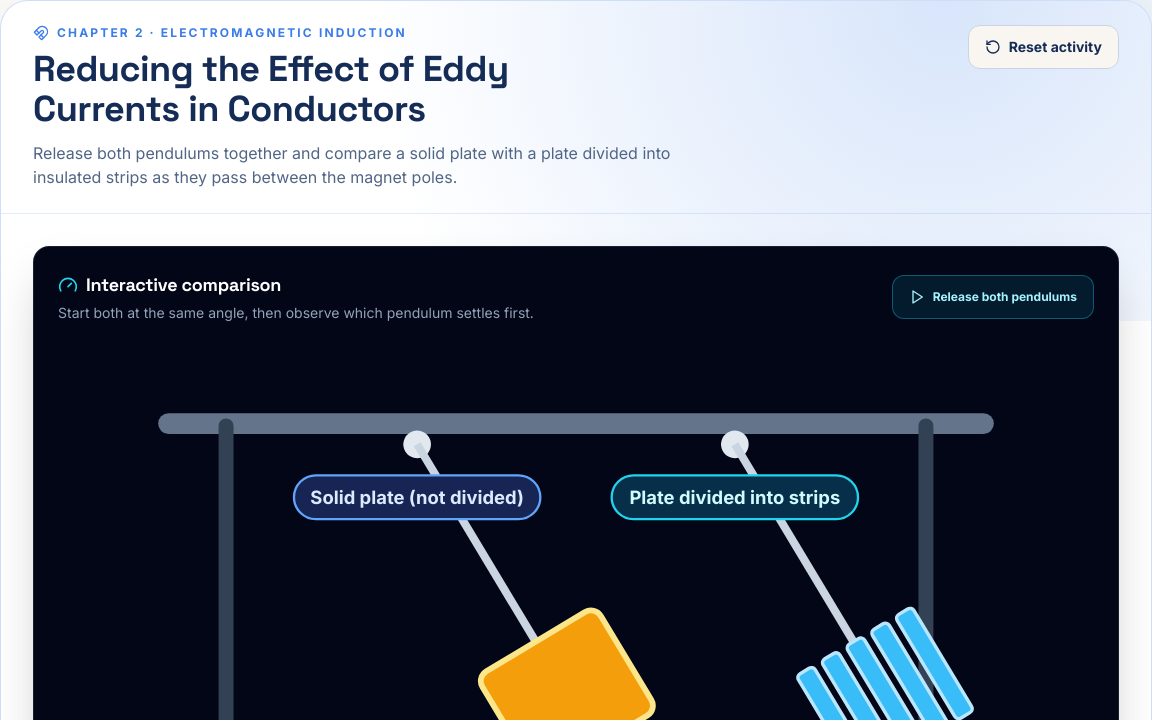
EddyCurrentPendulumActivity › releases both pendulums with different damping
Step 1. Click the button "Release both pendulums" → (993, 297), box [892,275,1094,319]
(page scrolled)
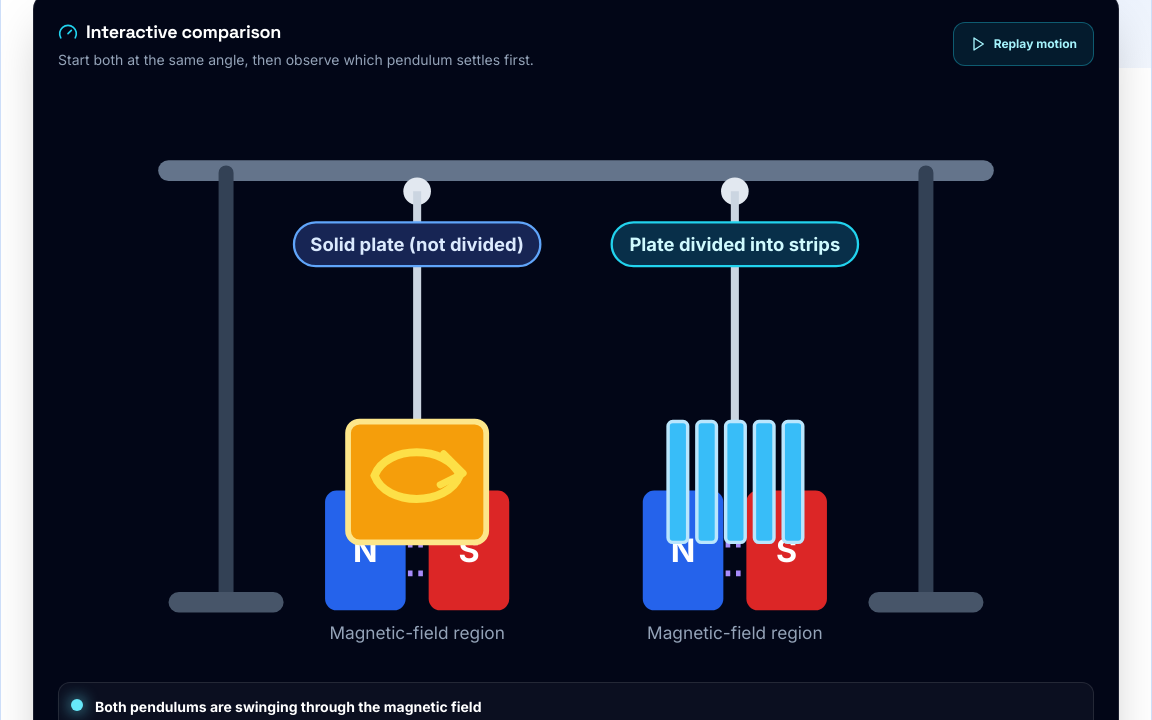
Result: the text "Both pendulums are swinging through the magnetic field" is shown at [95,694,482,718]
